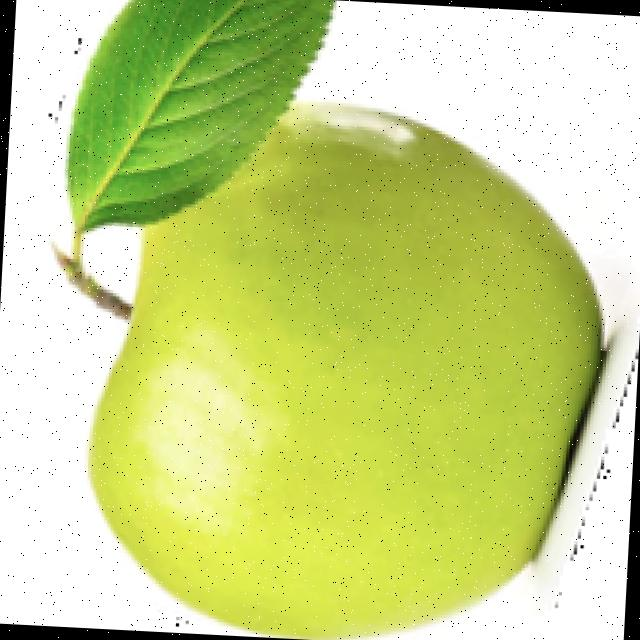apple: (45, 0, 637, 640)
